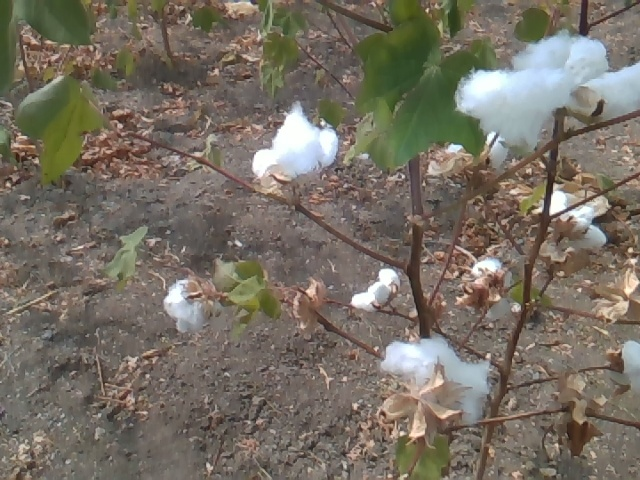cotton: (454, 42, 609, 145), (382, 338, 490, 426), (252, 105, 334, 175), (585, 62, 640, 120), (165, 284, 205, 333), (349, 267, 392, 307), (622, 340, 640, 390)
